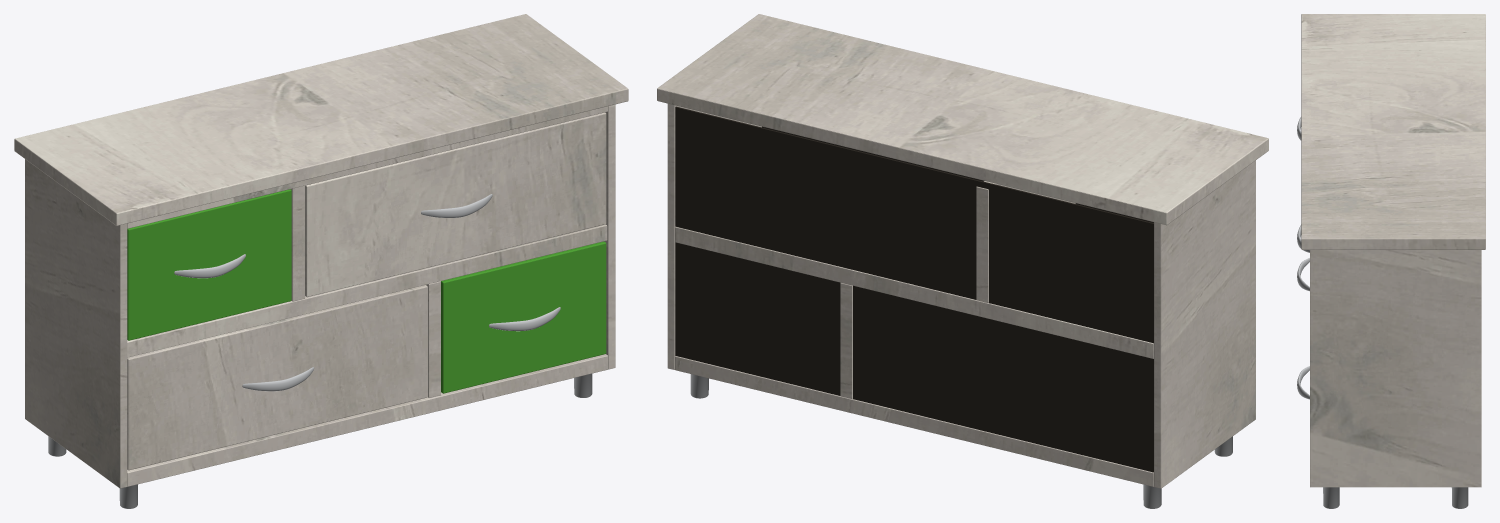
File: dresser-D2pEE7L4.glb
The picture shows the model from 3 angles, left to right: view 1: azimuth 30°, elevation 25°; view 2: azimuth 150°, elevation 25°; view 3: azimuth 270°, elevation 25°; orthographic projection. The views are drawn at different scales.
Visible parts, largest first — view 1: top, front_wood_low, front_wood_top, side_l, front_green_low, front_green_top, shelf, bottom, rail_top, side_r, post_top, post_low; view 2: back, top, side_l, shelf, bottom, side_r, post_top, post_low; view 3: top, side_r, leg_3, leg_1.
Boxes of the visible parts, x1,y1,x2,y2 form: top: (14, 14, 628, 225); front_wood_low: (127, 285, 427, 470); front_wood_top: (305, 112, 606, 297); side_l: (25, 159, 127, 488); front_green_low: (441, 241, 606, 393); front_green_top: (127, 189, 291, 340); shelf: (127, 224, 607, 357); bottom: (127, 354, 607, 486); rail_top: (127, 106, 607, 228); side_r: (604, 104, 615, 369); post_top: (290, 185, 304, 301); post_low: (426, 281, 440, 397); back: (675, 106, 1153, 472); top: (657, 14, 1268, 225); side_l: (1154, 160, 1255, 488); shelf: (675, 226, 1153, 358); bottom: (675, 356, 1153, 486); side_r: (667, 103, 761, 369); post_top: (976, 181, 1075, 302); post_low: (840, 283, 852, 399); top: (1301, 14, 1485, 249); side_r: (1310, 250, 1481, 487); leg_3: (1451, 487, 1468, 508); leg_1: (1323, 487, 1339, 508).
Size of the model in its own units: 1.24 by 0.72 by 0.4399.
6 materials, 2 textured.
